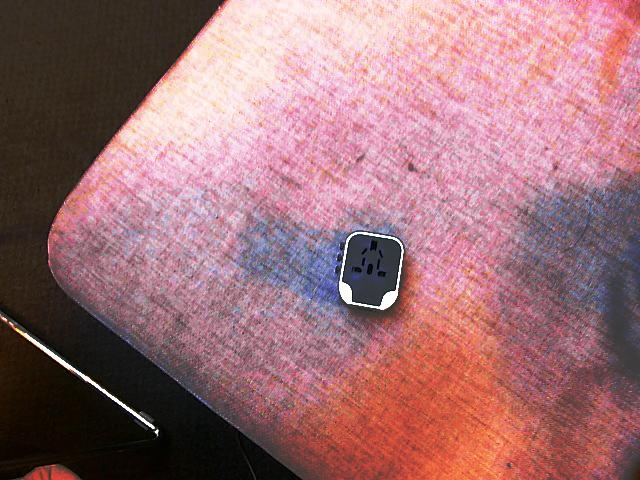adapter: (336, 229, 404, 311)
